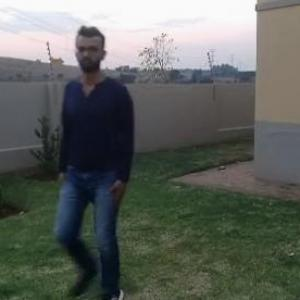follow: (59, 22, 139, 299)
